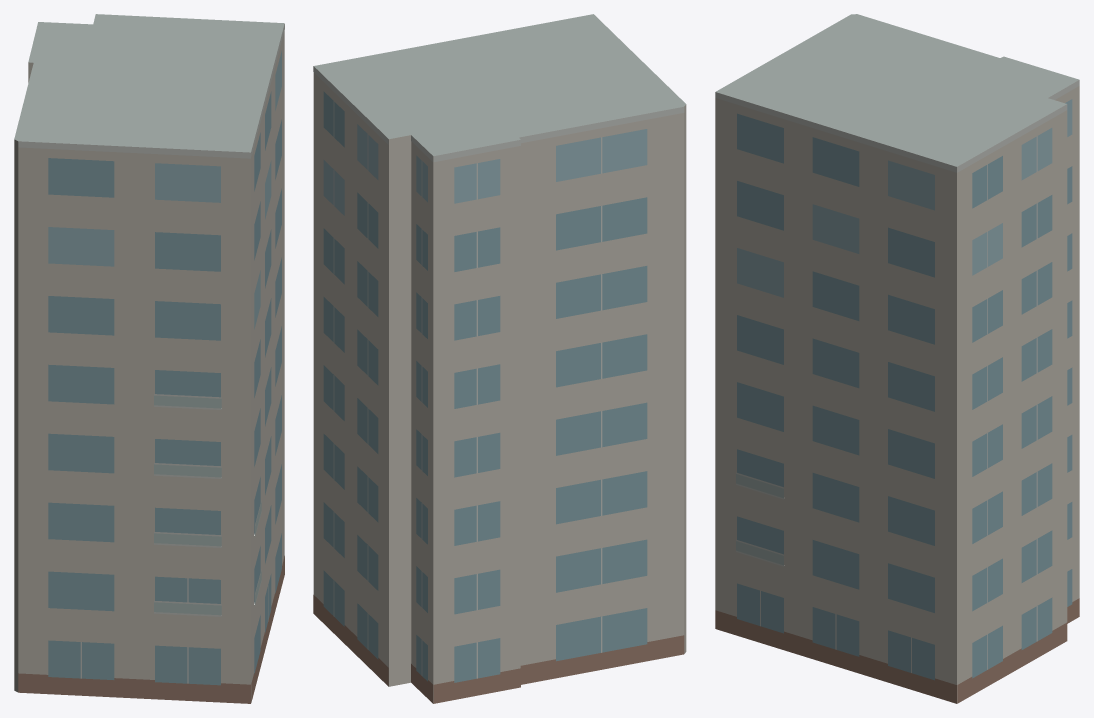
Rendered from survey-upis-32699974.glb.
3 views of the same model, side by side, from view 1: azimuth 30°, elevation 25°; view 2: azimuth 150°, elevation 25°; view 3: azimuth 270°, elevation 25° (orthographic). The views are drawn at different scales.
Visible parts, largest first — view 1: survey-upis-32699974.tmp; view 2: survey-upis-32699974.tmp; view 3: survey-upis-32699974.tmp.
Part boxes in pixels (left/top/right/bottom): survey-upis-32699974.tmp: left=14, top=14, right=284, bottom=703; survey-upis-32699974.tmp: left=313, top=14, right=686, bottom=703; survey-upis-32699974.tmp: left=715, top=14, right=1079, bottom=703.
Size of the model in its own units: 13.45 by 22 by 13.54.
